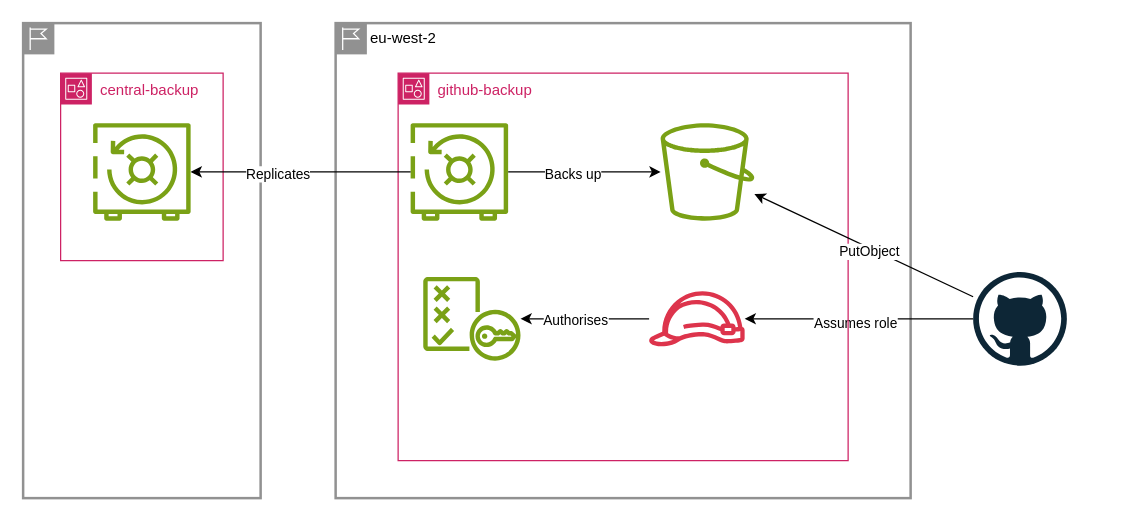
This 1124x520 diagram has some shape labels left out. Each missing label, with the box of its shape:
eu-west-1: (21, 21, 261, 499)
govuk-one-login/anyrepo: (972, 271, 1067, 366)
